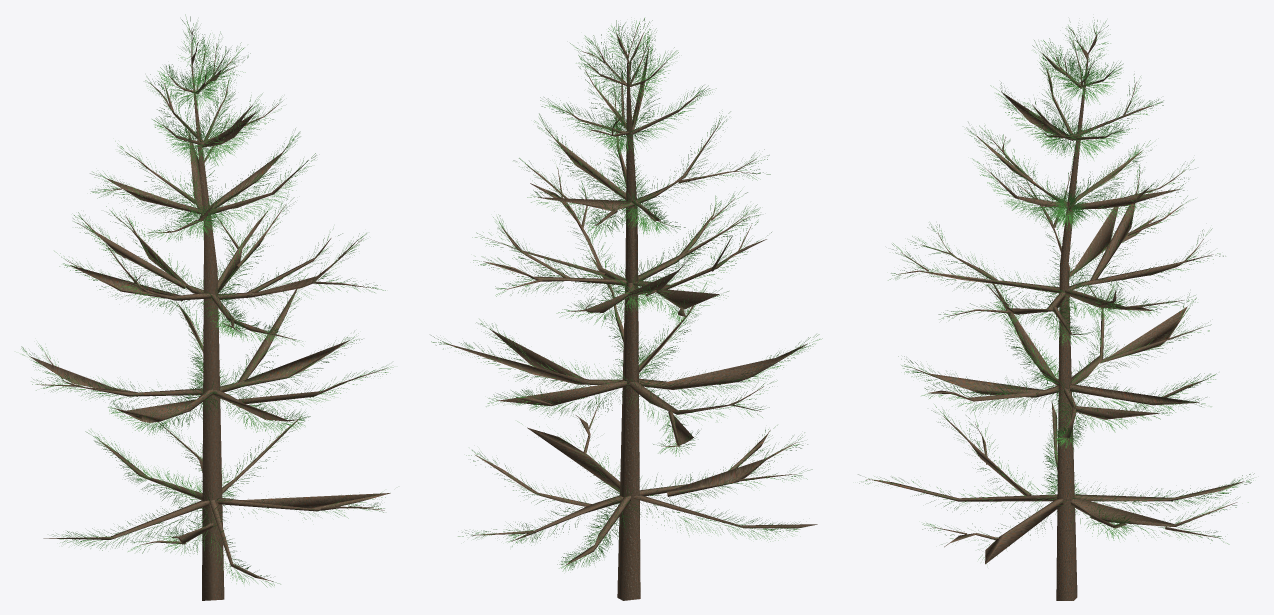
The model's file is pine.glb.
3 views of the same model, side by side, from view 1: azimuth 30°, elevation 25°; view 2: azimuth 150°, elevation 25°; view 3: azimuth 270°, elevation 25° (orthographic). The views are drawn at different scales.
Parts seen in each view (by area): view 1: Object_4, Object_5; view 2: Object_4, Object_5; view 3: Object_4, Object_5.
Boxes of the visible parts, x1,y1,x2,y2 form: Object_4: (29,28,390,600); Object_5: (21,14,393,587); Object_4: (443,26,817,600); Object_5: (431,18,822,571); Object_4: (866,29,1244,600); Object_5: (858,17,1254,559).
Size of the model in its own units: 0.5939 by 0.9962 by 0.6361.
Materials: 2 (1 with a texture image).
